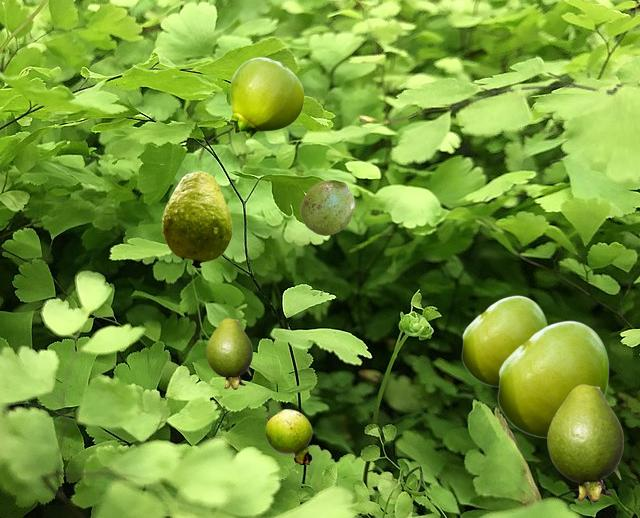guava: (497, 320, 608, 437), (547, 384, 622, 501), (461, 295, 547, 386), (161, 171, 231, 267), (229, 57, 303, 137), (206, 318, 251, 388), (300, 180, 353, 234), (265, 409, 311, 463)
